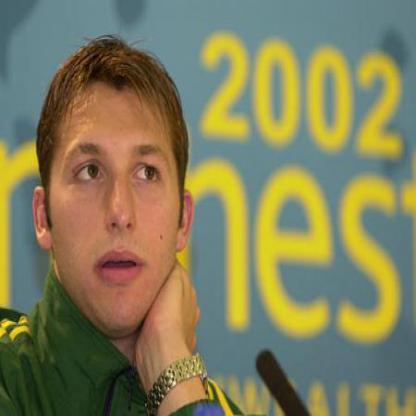face: (49, 45, 187, 336)
